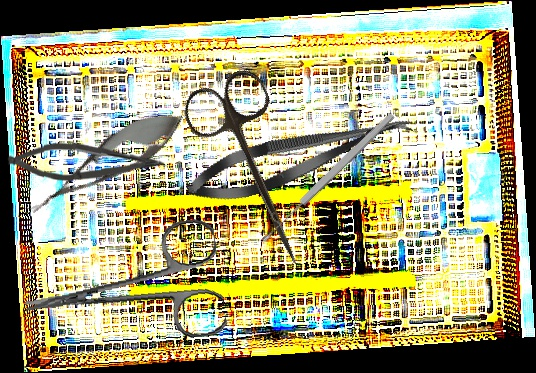Iris Scissors: (176, 63, 338, 280), (16, 216, 229, 361)
Micro Scissor: (181, 99, 418, 214), (19, 95, 194, 231), (6, 138, 168, 184)
Surgical Spoon: (257, 109, 398, 246)
